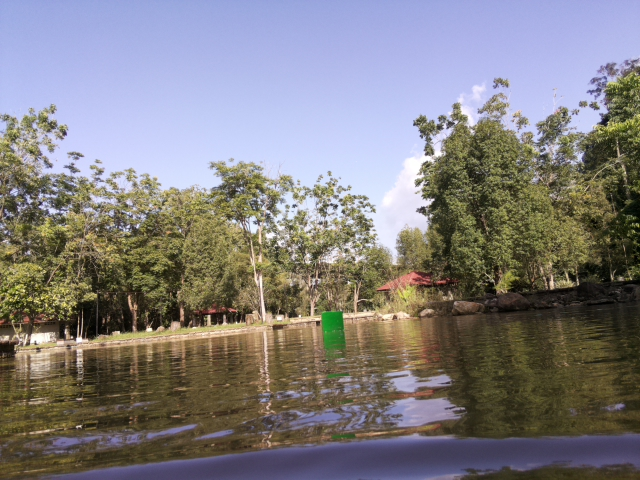obstacle: (321, 308, 346, 335)
